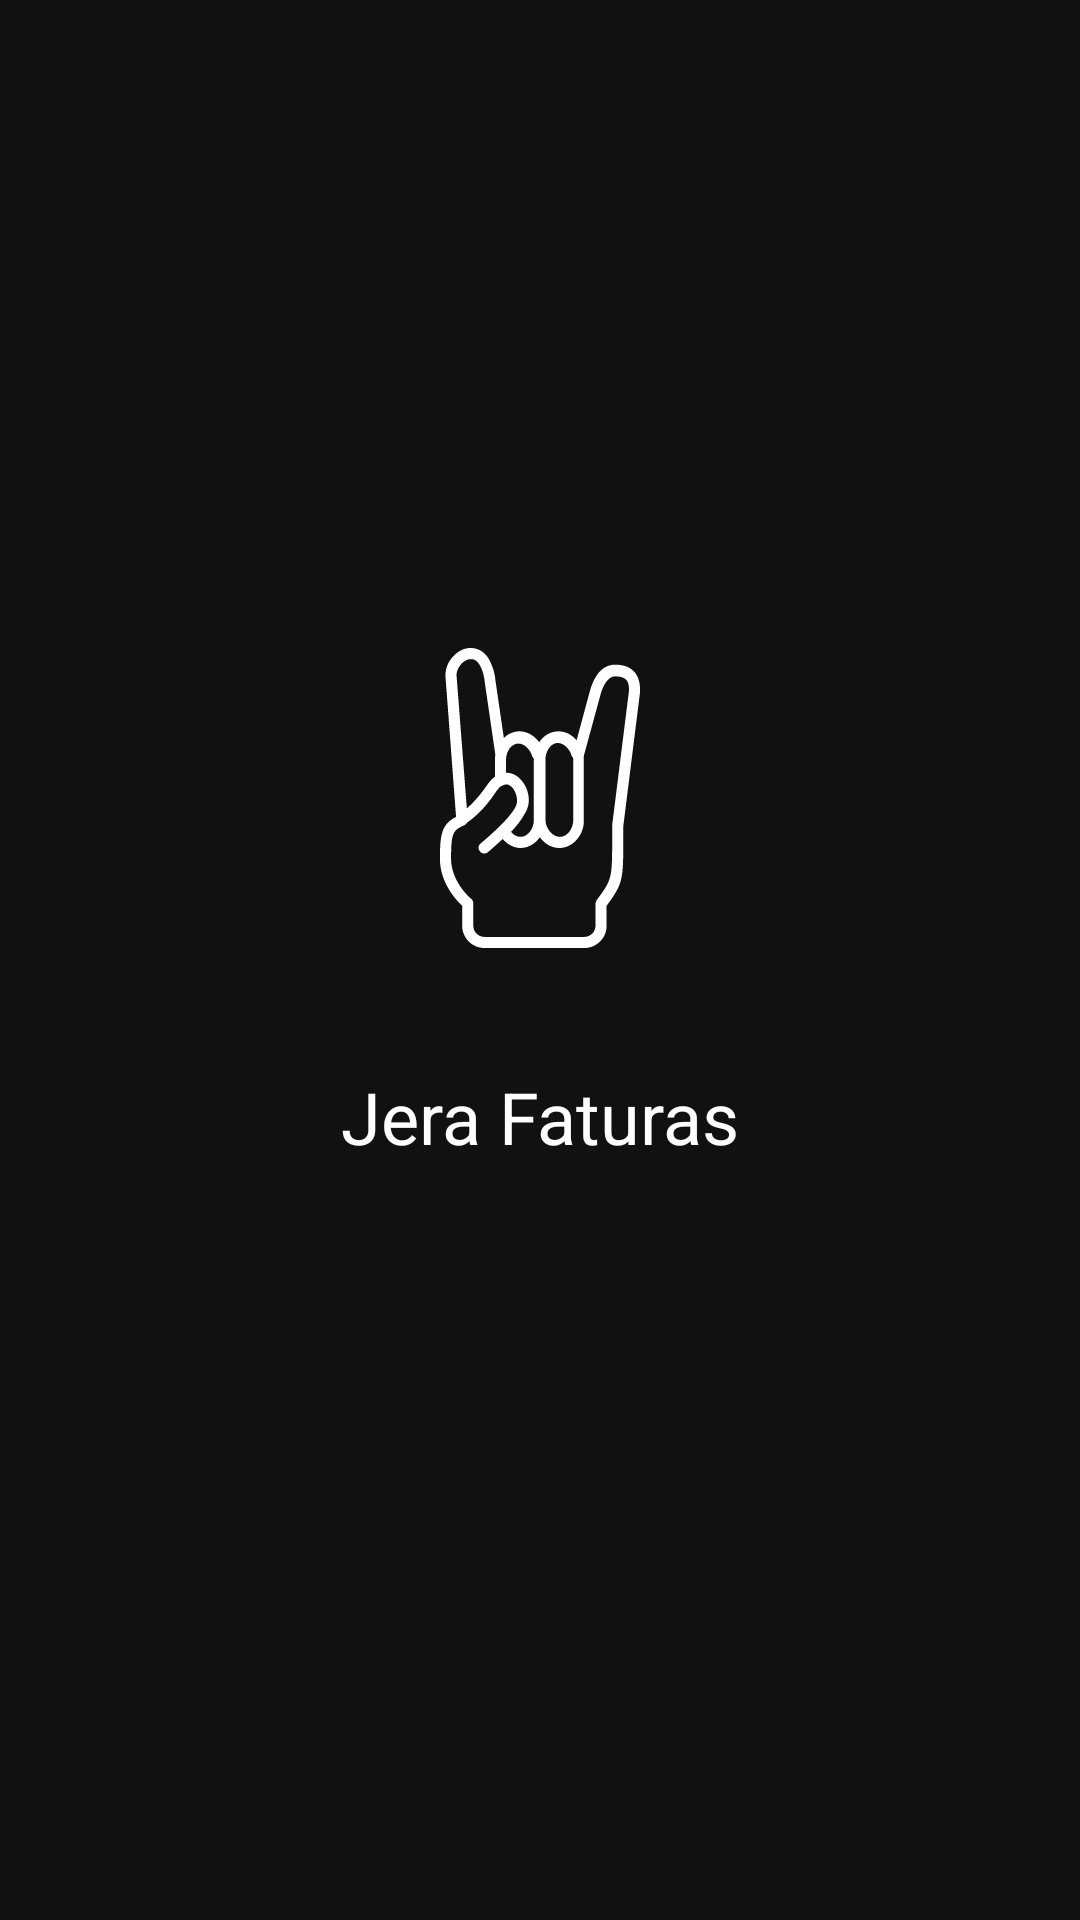

Icons on this 1080x1920 Android screen, each with the point to tap as (x,y):
rock and roll: (540,798)
